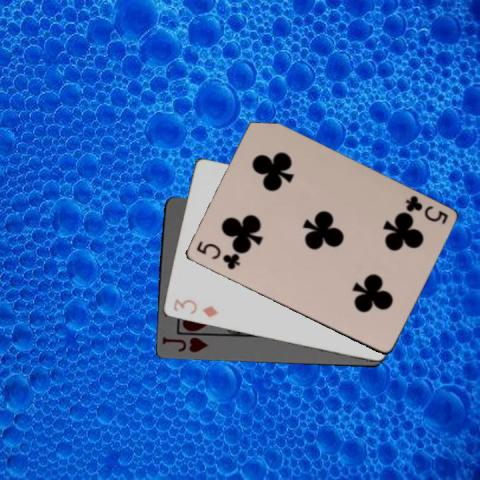3d: (170, 296, 219, 319)
5c: (192, 238, 241, 271), (402, 193, 449, 226)
Jh: (158, 334, 208, 354)
